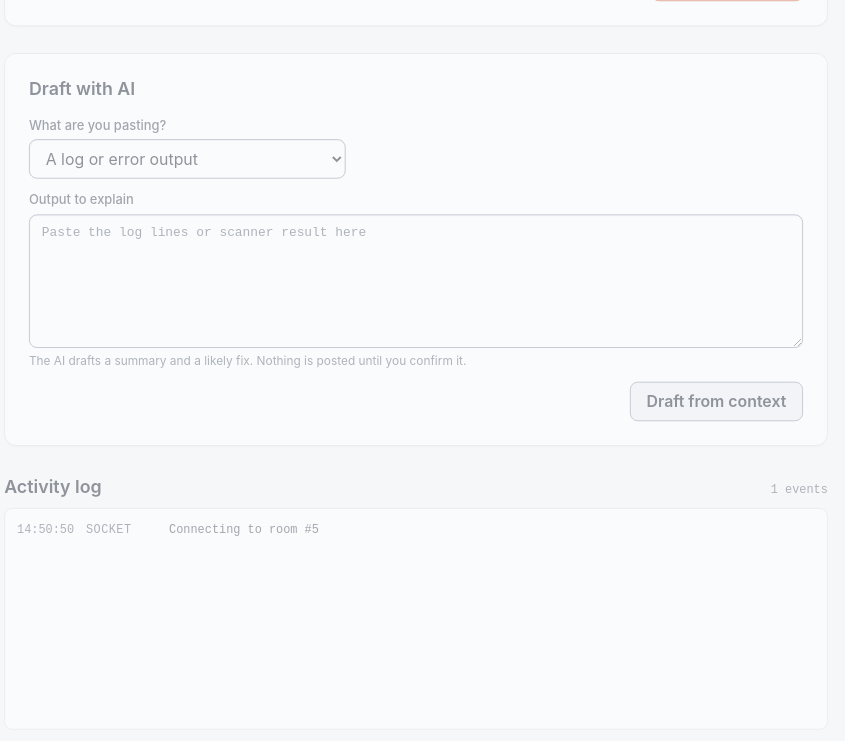
Test: RoomDetailsPage › AI drafts › does not ask for a draft with nothing pasted
(page scrolled)
Step 1. Click the button "Draft from context" → (716, 401), box [630,381,803,421]
(page scrolled)
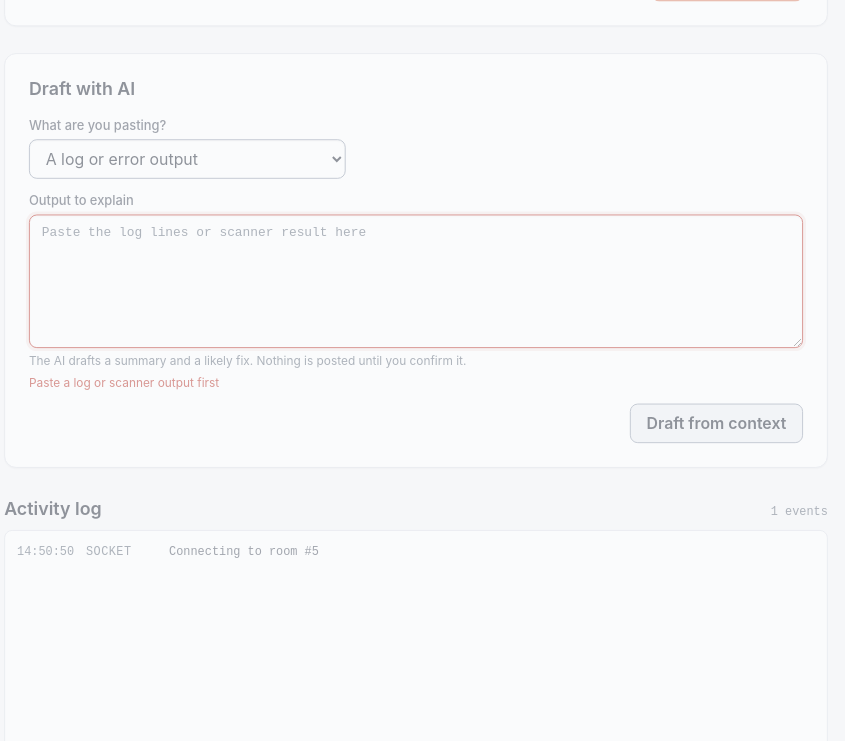
Expected: the text "Paste a log or scanner output first" is shown, [29,374,219,389]
